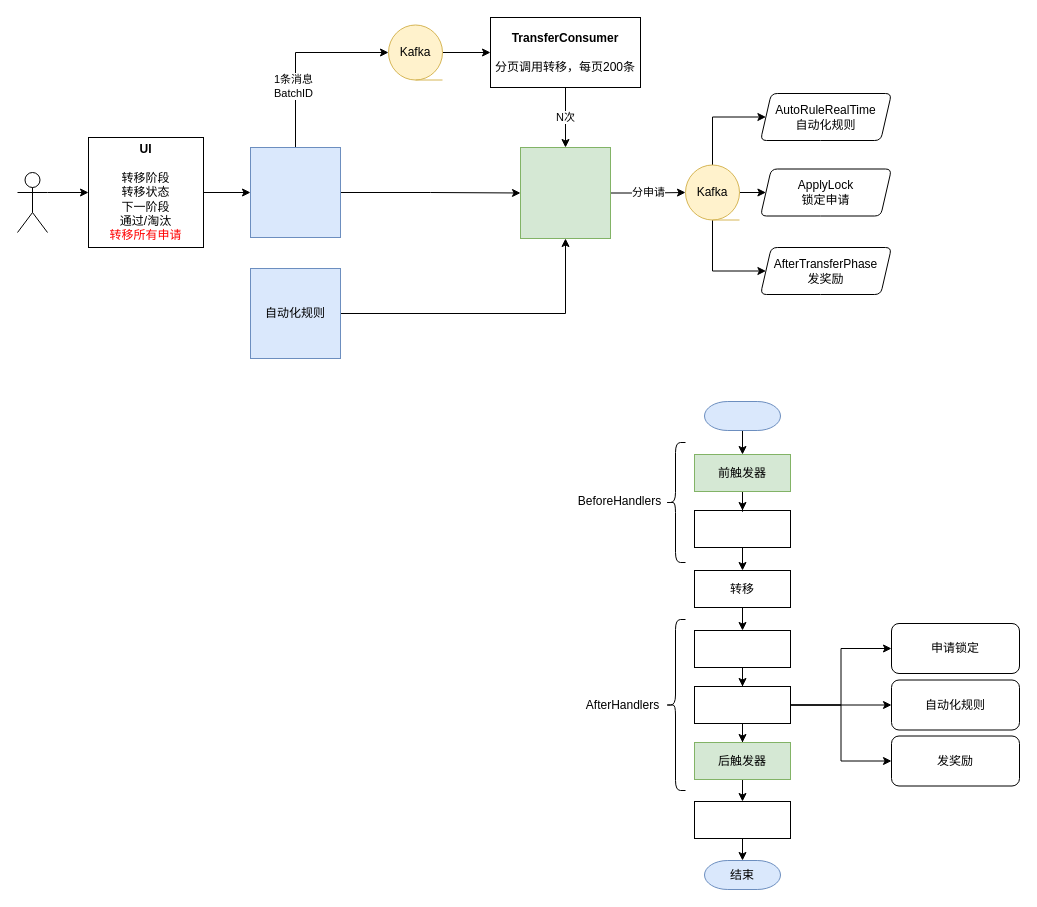
This 1037x907 diagram has some shape labels left out. The shapes that lost their labels are listed below. From the top down, each one's centre as x and y in pixels, then its label:
At [32,202]: "Actor".
At [295,192]: "ApplicantMR 判断是否分批".
At [565,192]: "ApplicantESB 数据检查 转移阶段状态".
At [742,415]: "开始".
At [742,529]: "数据检查".
At [742,649]: "创建操作记录".
At [742,705]: "发消息".
At [742,819]: "返回结果".
